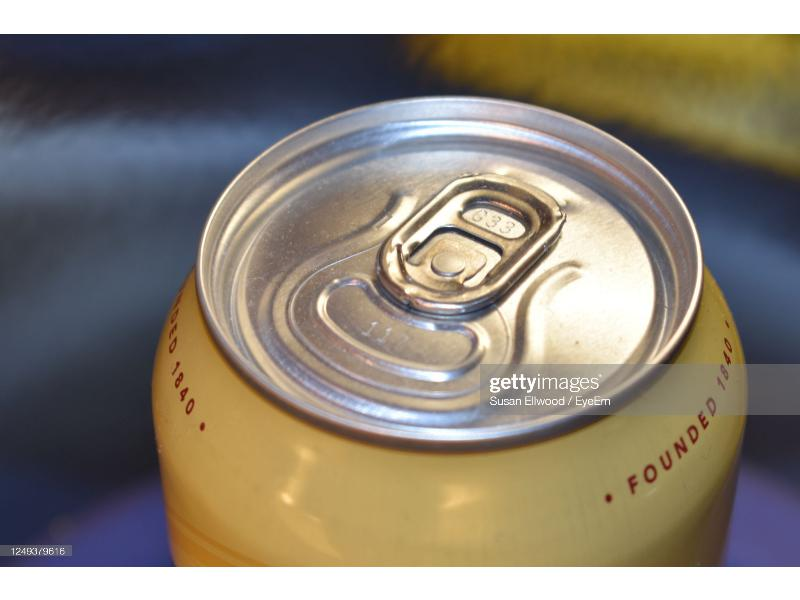can: (138, 103, 757, 568)
